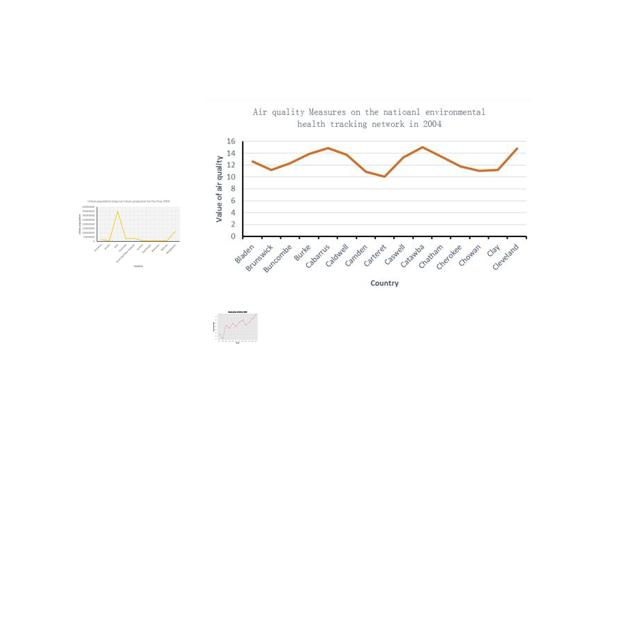Graph: (205, 99, 532, 293), (76, 198, 182, 269), (211, 307, 263, 346)
